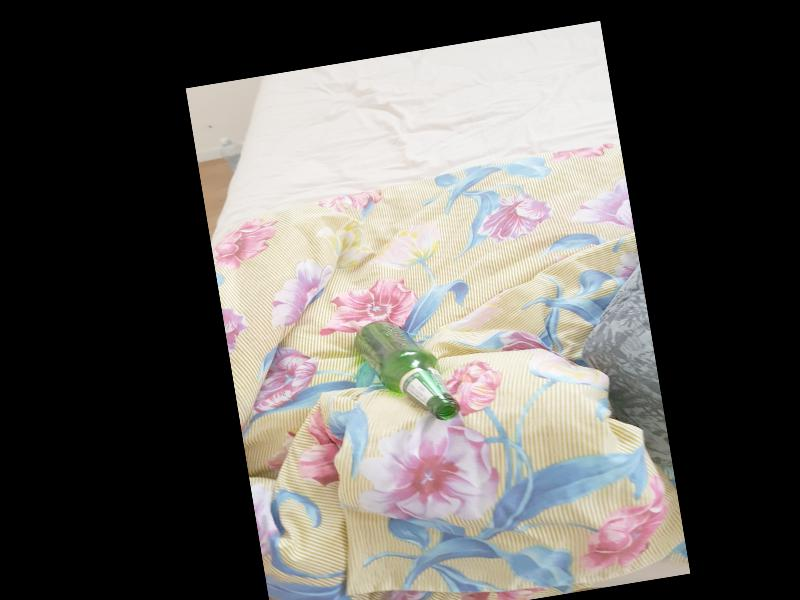Beer: (351, 311, 459, 433)
